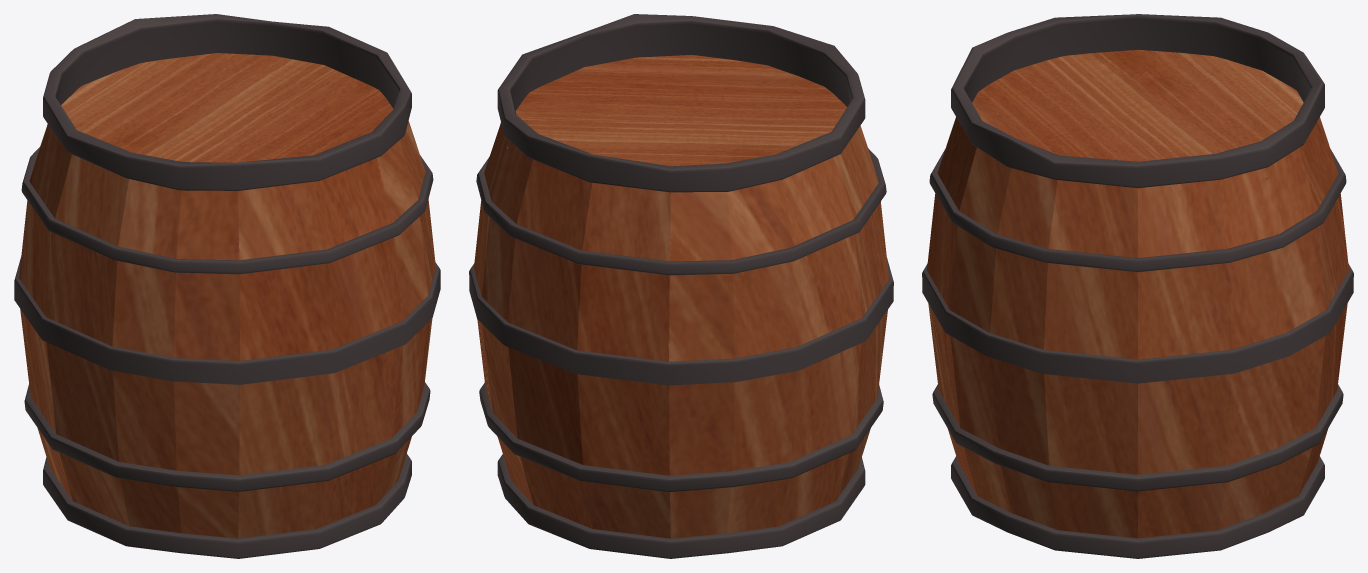
Rendered from Barrel_01.fbx.
The picture shows the model from 3 angles, left to right: view 1: azimuth 30°, elevation 25°; view 2: azimuth 150°, elevation 25°; view 3: azimuth 270°, elevation 25°; orthographic projection.
Visible parts, largest first — view 1: Barrel_Base_01, Barrel_Lid_01; view 2: Barrel_Base_01, Barrel_Lid_01; view 3: Barrel_Base_01, Barrel_Lid_01.
Part boxes in pixels (box(x1,y1,x2,y2)): Barrel_Base_01: box(14, 14, 440, 558); Barrel_Lid_01: box(61, 53, 393, 162); Barrel_Base_01: box(469, 14, 893, 558); Barrel_Lid_01: box(507, 55, 847, 166); Barrel_Base_01: box(922, 14, 1353, 558); Barrel_Lid_01: box(972, 49, 1303, 180).
Size of the model in its own units: 7.83 by 7.99 by 7.83.
